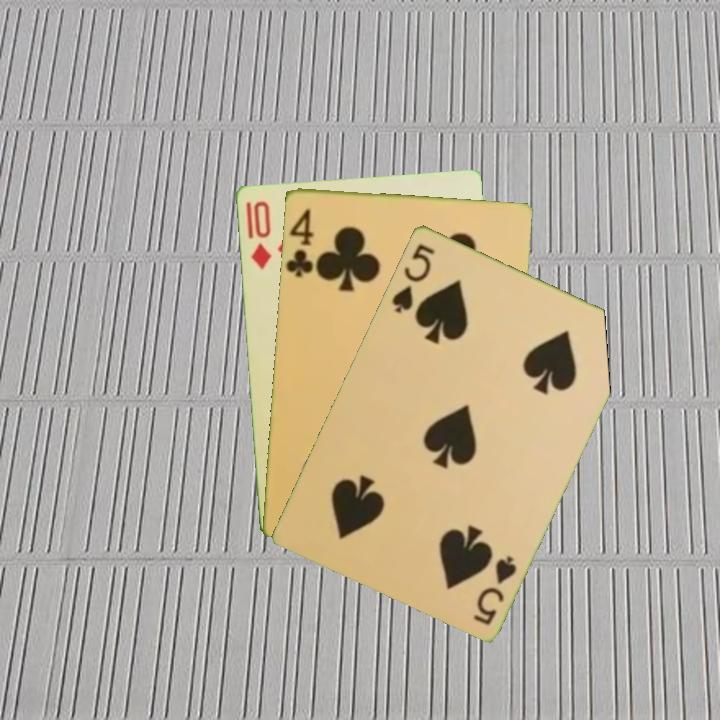10d: (247, 197, 274, 271)
4c: (283, 204, 319, 279)
5s: (469, 551, 520, 628), (388, 239, 437, 316)
